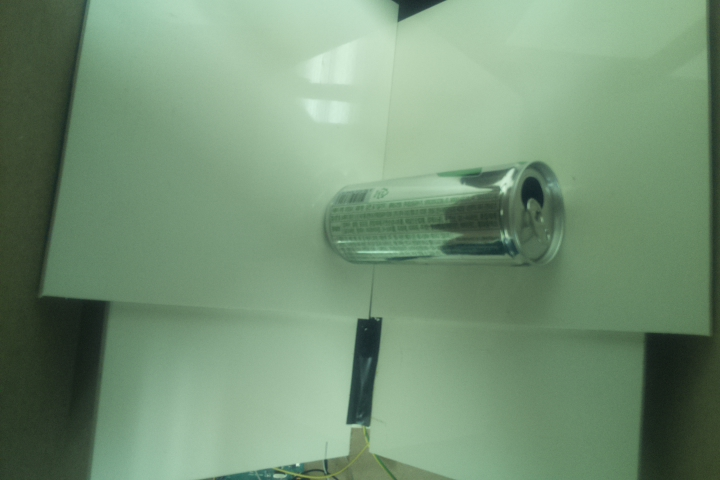can: (321, 159, 566, 269)
